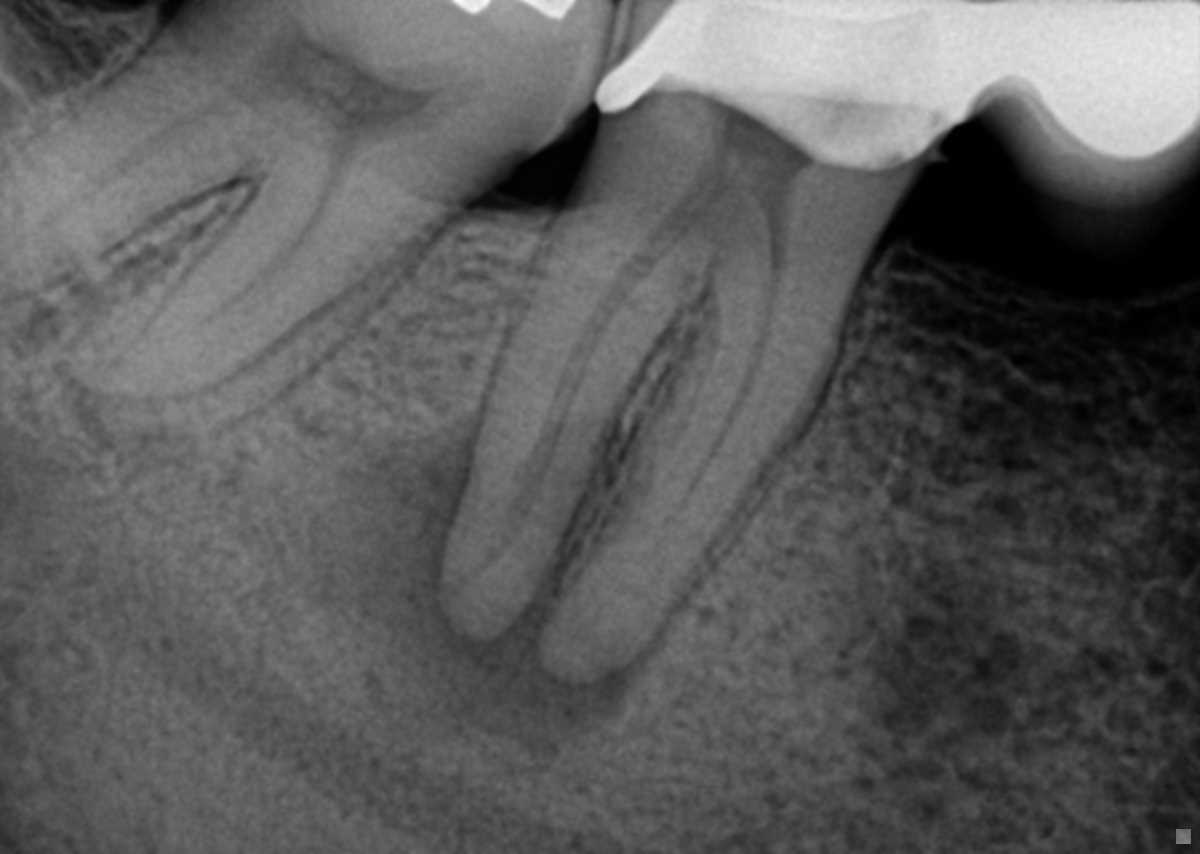Apical Lesion: (307, 420, 658, 754)
Distal Canal: (442, 230, 669, 590), (0, 103, 205, 264)
Distal Root: (436, 183, 696, 638), (0, 34, 249, 307)
Mesial Canal: (142, 181, 341, 356), (657, 277, 783, 541)
Mesial Root: (535, 278, 842, 681), (62, 178, 467, 438)
